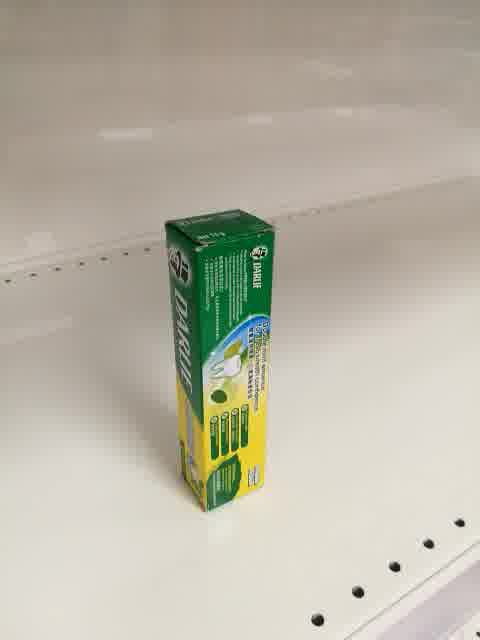toothpaste: (163, 208, 276, 519)
